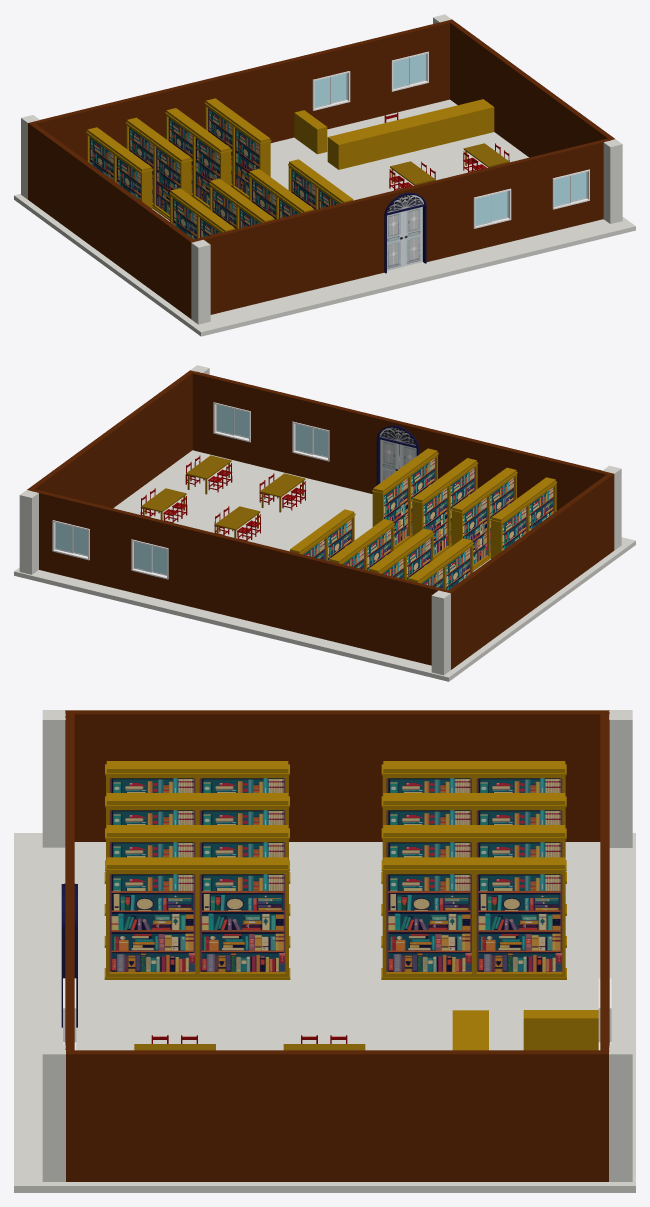
Rendered from Scene_Library.glb.
3 renders of one model, top to bottom at view 1: azimuth 30°, elevation 25°; view 2: azimuth 150°, elevation 25°; view 3: azimuth 270°, elevation 25°, orthographic. The views are drawn at different scales.
Parts seen in each view (by area): view 1: Wall_and_Floor, polySurface13705, Bookshelf21, Bookshelf5, Bookshelf15, Bookshelf25, polySurface13531, LIB_Door_Right, Bookshelf4, Bookshelf24, Bookshelf19, Bookshelf13 (+12 smaller); view 2: Wall_and_Floor, Bookshelf18, Bookshelf11, Bookshelf7, Bookshelf24, Bookshelf8, Bookshelf25, Bookshelf16, Bookshelf22, Bookshelf12, Bookshelf15, Bookshelf21 (+11 smaller); view 3: Wall_and_Floor, Bookshelf6, Bookshelf28, Bookshelf, Bookshelf9, polySurface13531, Bookshelf14, Bookshelf10, Bookshelf30, Bookshelf29, Bookshelf20, Bookshelf26 (+8 smaller).
Part boxes in pixels (x1,y1,x2,y2): Wall_and_Floor: [14, 14, 635, 336]; polySurface13705: [327, 99, 494, 169]; Bookshelf21: [152, 138, 187, 220]; Bookshelf5: [232, 119, 265, 199]; Bookshelf15: [192, 129, 226, 209]; Bookshelf25: [113, 148, 147, 204]; polySurface13531: [294, 110, 327, 154]; LIB_Door_Right: [404, 206, 422, 266]; Bookshelf4: [204, 99, 237, 188]; Bookshelf24: [169, 189, 202, 239]; Bookshelf19: [125, 119, 157, 207]; Bookshelf13: [165, 109, 198, 196]; Wall_and_Floor: [14, 365, 635, 681]; Bookshelf18: [455, 488, 490, 570]; Bookshelf11: [416, 479, 450, 559]; Bookshelf7: [376, 470, 411, 549]; Bookshelf24: [495, 498, 530, 555]; Bookshelf8: [405, 449, 438, 537]; Bookshelf25: [441, 539, 473, 589]; Bookshelf16: [485, 468, 517, 559]; Bookshelf22: [524, 478, 557, 530]; Bookshelf12: [445, 459, 478, 546]; Bookshelf15: [361, 520, 394, 570]; Bookshelf21: [402, 529, 434, 579]; Wall_and_Floor: [14, 710, 635, 1192]; Bookshelf6: [381, 861, 476, 979]; Bookshelf28: [195, 861, 290, 979]; Bookshelf: [471, 861, 566, 979]; Bookshelf9: [104, 861, 199, 979]; polySurface13531: [523, 1010, 598, 1050]; Bookshelf14: [381, 829, 476, 947]; Bookshelf10: [104, 829, 199, 947]; Bookshelf30: [472, 829, 566, 947]; Bookshelf29: [196, 829, 290, 947]; Bookshelf20: [381, 797, 476, 915]; Bookshelf26: [381, 765, 476, 883].
Size of the model in its own units: 17.69 by 3.15 by 13.18.
18 materials, 3 textured.
